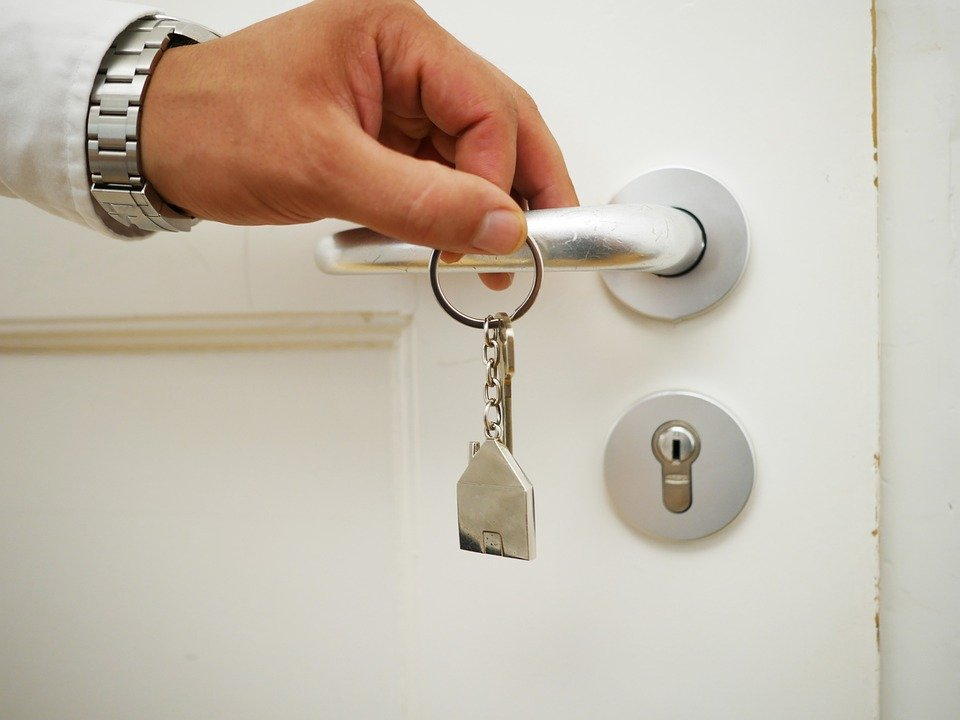key: (473, 312, 536, 466)
